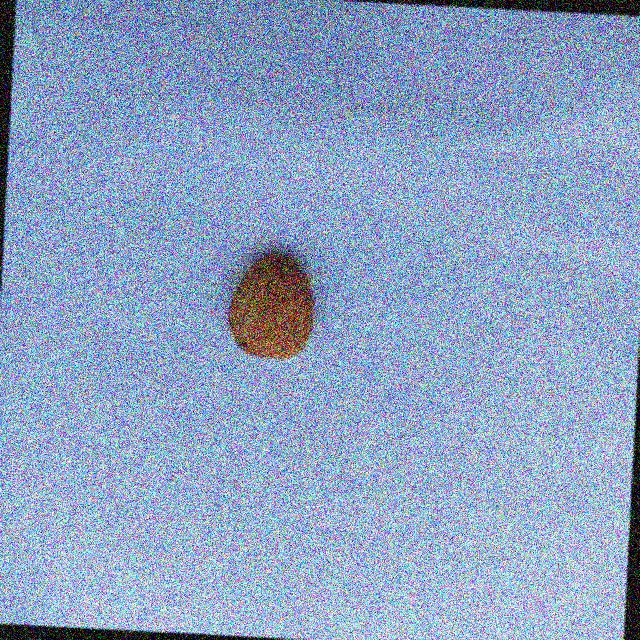grade1: (219, 242, 327, 368)
